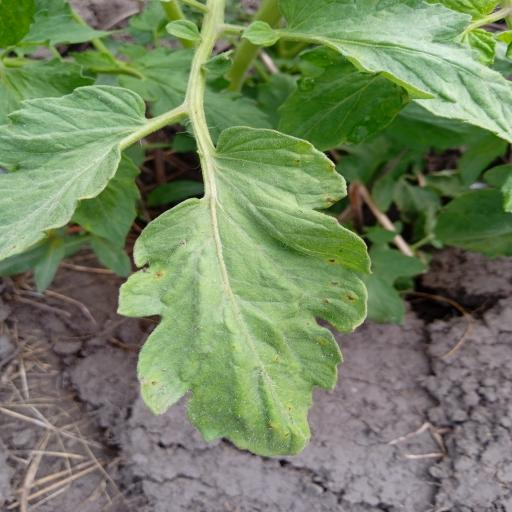Tomato_Brown_Spots: (115, 122, 374, 462), (0, 83, 153, 262)
